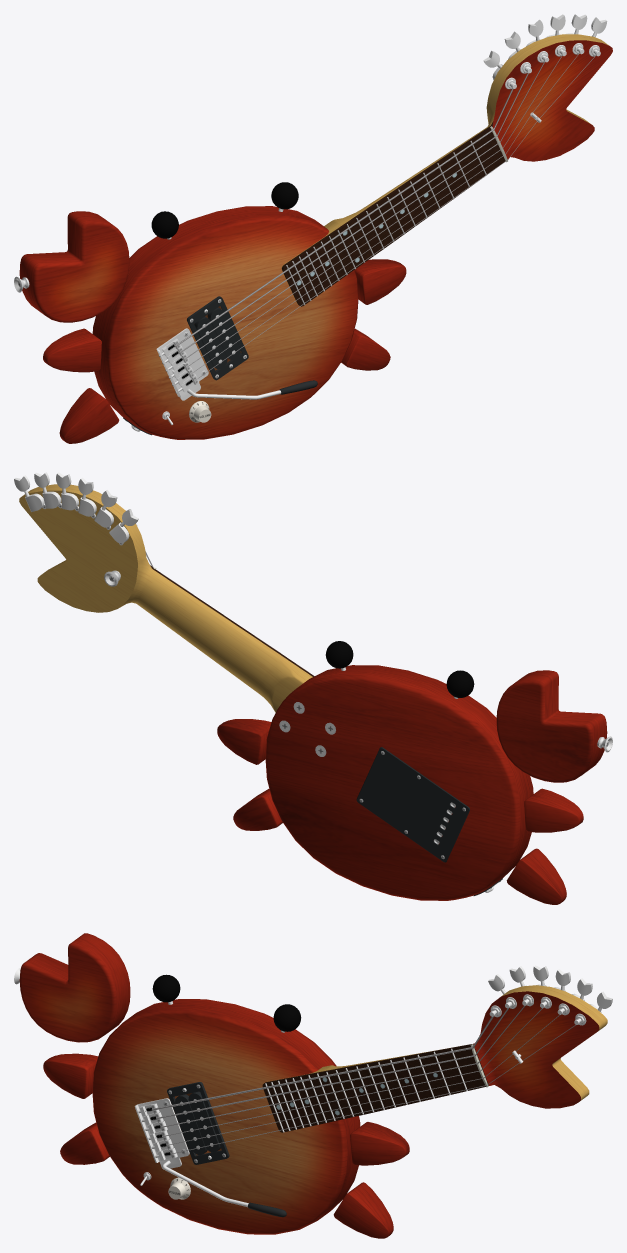
Rendered from CrabGuitarKA23_High.fbx.
3 views of the same model, one above another, from view 1: azimuth 30°, elevation 25°; view 2: azimuth 150°, elevation 25°; view 3: azimuth 330°, elevation 25° (orthographic).
Parts seen in each view (by area): view 1: CrabGuitarKA23_High_Mesh; view 2: CrabGuitarKA23_High_Mesh; view 3: CrabGuitarKA23_High_Mesh.
Part boxes in pixels (x1,y1,x2,y2): CrabGuitarKA23_High_Mesh: (14,14,612,443); CrabGuitarKA23_High_Mesh: (14,472,612,904); CrabGuitarKA23_High_Mesh: (14,933,612,1238).
Size of the model in its own units: 0.9027 by 0.4864 by 0.0777.
